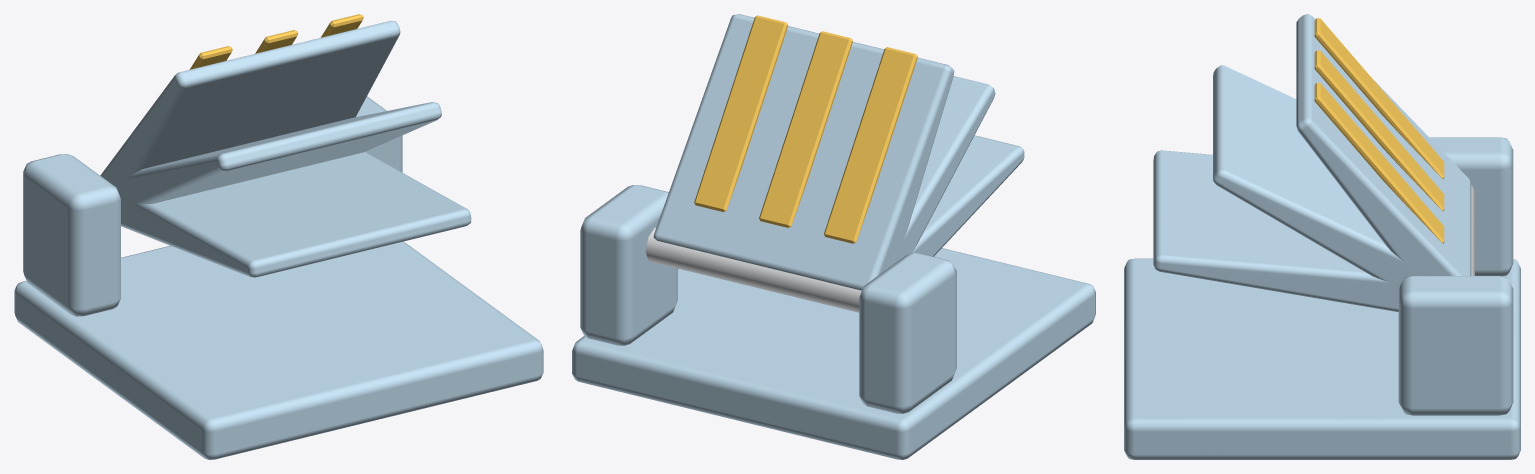
The model's file is R4X_RampDeployer.glb.
The picture shows the model from 3 angles, left to right: view 1: azimuth 30°, elevation 25°; view 2: azimuth 150°, elevation 25°; view 3: azimuth 270°, elevation 25°; orthographic projection.
Visible parts, largest first — view 1: R4X_RampDeployer_Body; view 2: R4X_RampDeployer_Body; view 3: R4X_RampDeployer_Body.
Part boxes in pixels (bbox=[...]): R4X_RampDeployer_Body: bbox=[14, 14, 543, 459]; R4X_RampDeployer_Body: bbox=[572, 14, 1095, 459]; R4X_RampDeployer_Body: bbox=[1124, 14, 1520, 459].
Size of the model in its own units: 0.52 by 0.4665 by 0.52.
